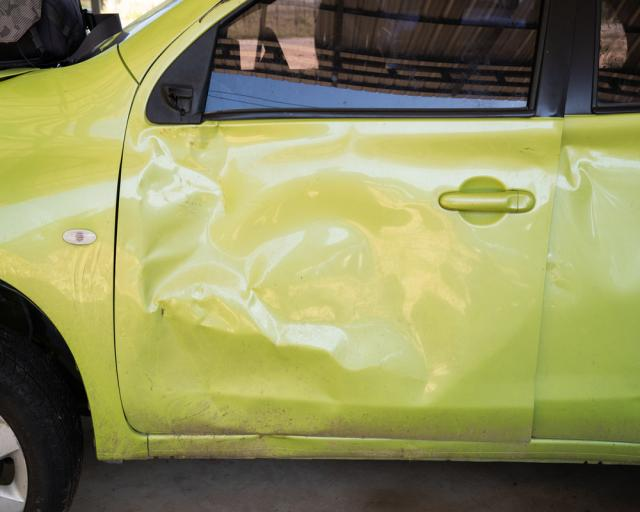dent: (135, 122, 528, 433), (558, 130, 640, 296)
